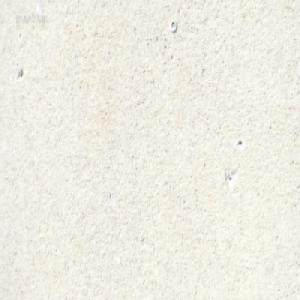Washer: (169, 18, 177, 33)
